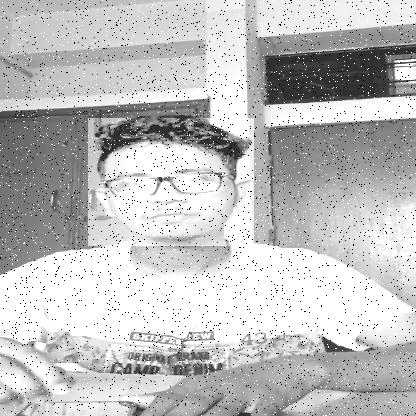Normal: (88, 118, 254, 246)
